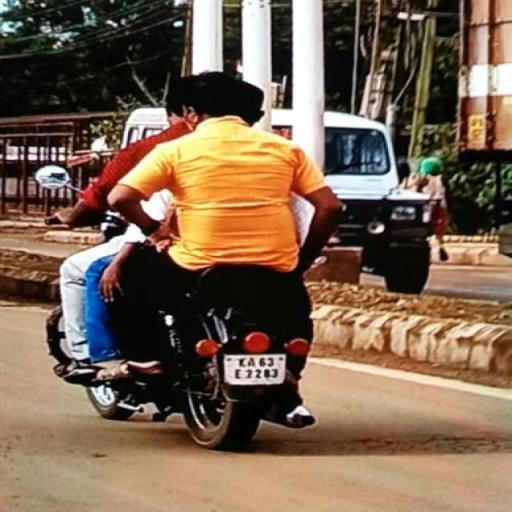tripple riding: (32, 69, 382, 333)
